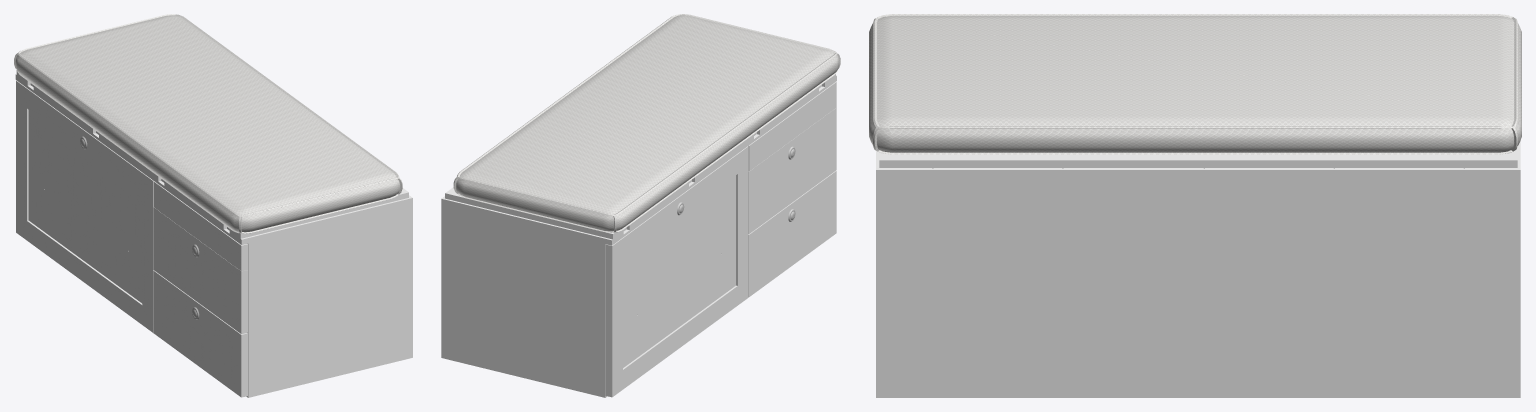
Rendered from Storage-bench.glb.
3 views of the same model, side by side, from view 1: azimuth 30°, elevation 25°; view 2: azimuth 150°, elevation 25°; view 3: azimuth 270°, elevation 25° (orthographic). The views are drawn at different scales.
Visible parts, largest first — view 1: Cube.013, object 2, object 17, object 10, object 9, object 11, object 32, object 16; view 2: Cube.013, object 3, object 17, object 10, object 9, object 11, object 32, object 16; view 3: object 21, Cube.013, object 16, object 11, object 2, object 3.
Boxes of the visible parts, bbox=[...] form: Cube.013: bbox=[14, 14, 402, 233]; object 2: bbox=[246, 203, 412, 397]; object 17: bbox=[16, 80, 153, 332]; object 10: bbox=[153, 270, 247, 397]; object 9: bbox=[153, 207, 247, 333]; object 11: bbox=[15, 74, 412, 244]; object 32: bbox=[153, 181, 247, 271]; object 16: bbox=[16, 70, 408, 238]; Cube.013: bbox=[453, 14, 840, 232]; object 3: bbox=[441, 204, 606, 397]; object 17: bbox=[605, 146, 748, 397]; object 10: bbox=[748, 170, 836, 296]; object 9: bbox=[748, 108, 836, 233]; object 11: bbox=[441, 75, 836, 245]; object 32: bbox=[748, 82, 836, 171]; object 16: bbox=[445, 74, 835, 239]; object 21: bbox=[881, 177, 1514, 397]; Cube.013: bbox=[869, 14, 1521, 154]; object 16: bbox=[879, 148, 1517, 167]; object 11: bbox=[876, 141, 1520, 177]; object 2: bbox=[876, 177, 881, 397]; object 3: bbox=[1515, 177, 1520, 397].
Size of the model in its own units: 0.5162 by 0.5184 by 1.15.
4 materials, 1 textured.
